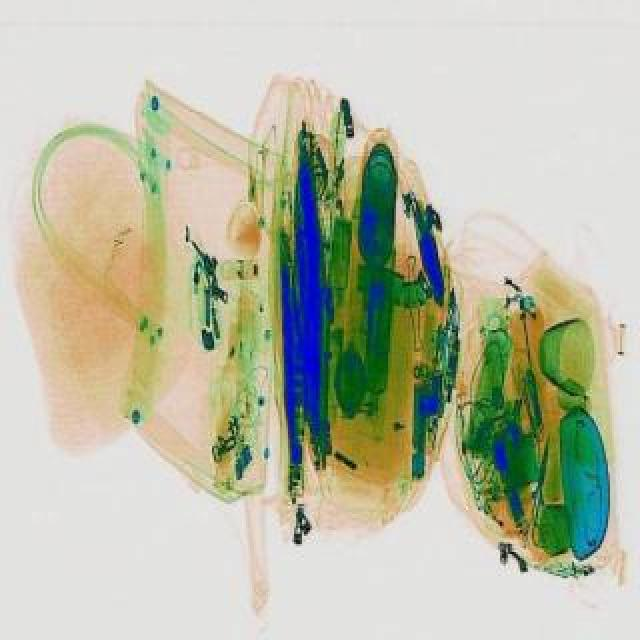knife: (524, 430, 558, 524)
